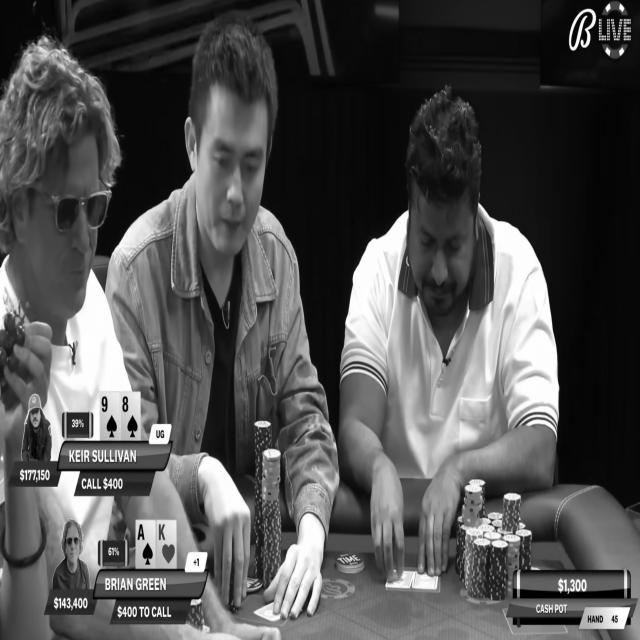8S: (121, 393, 139, 440)
9S: (101, 391, 119, 441)
AS: (137, 522, 155, 569)
KH: (157, 520, 175, 568)
